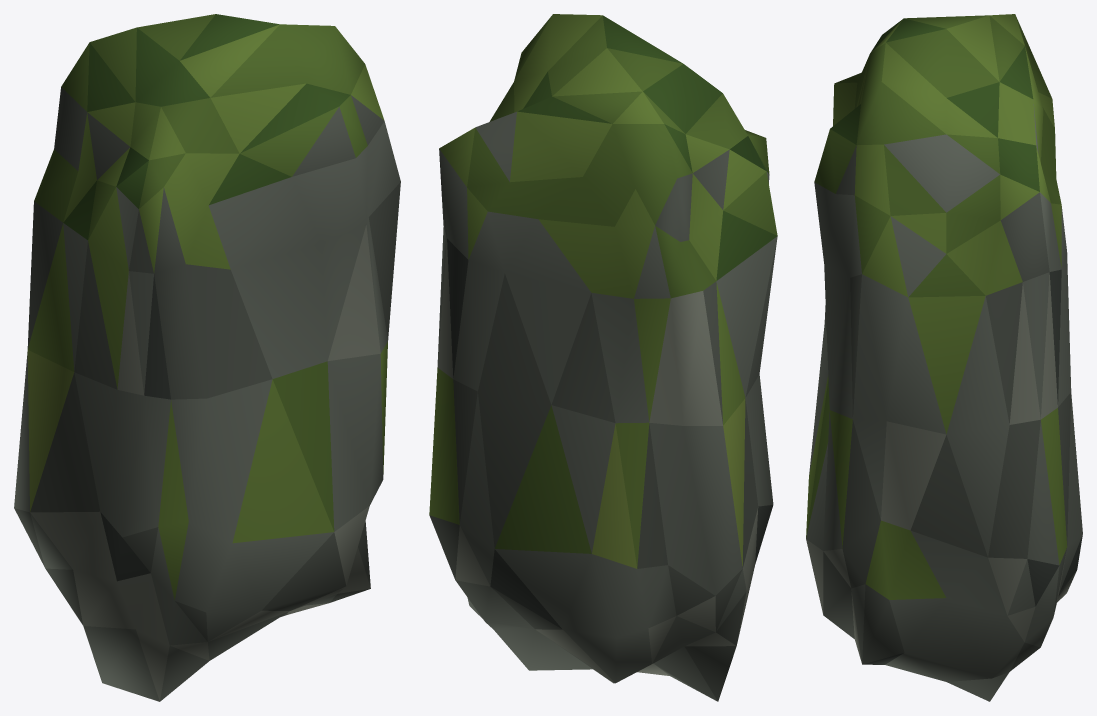
File: forest-cascade-ledge-3.glb
3 views of the same model, side by side, from view 1: azimuth 30°, elevation 25°; view 2: azimuth 150°, elevation 25°; view 3: azimuth 270°, elevation 25° (orthographic). The views are drawn at different scales.
Parts seen in each view (by area): view 1: forest-cascade-ledge-3/0; view 2: forest-cascade-ledge-3/0; view 3: forest-cascade-ledge-3/0.
Boxes of the visible parts, box(x1,y1,x2,y2) form: forest-cascade-ledge-3/0: box(14, 14, 400, 701); forest-cascade-ledge-3/0: box(429, 14, 777, 701); forest-cascade-ledge-3/0: box(806, 14, 1082, 701).
Size of the model in its own units: 2.9 by 5.6 by 2.15.
